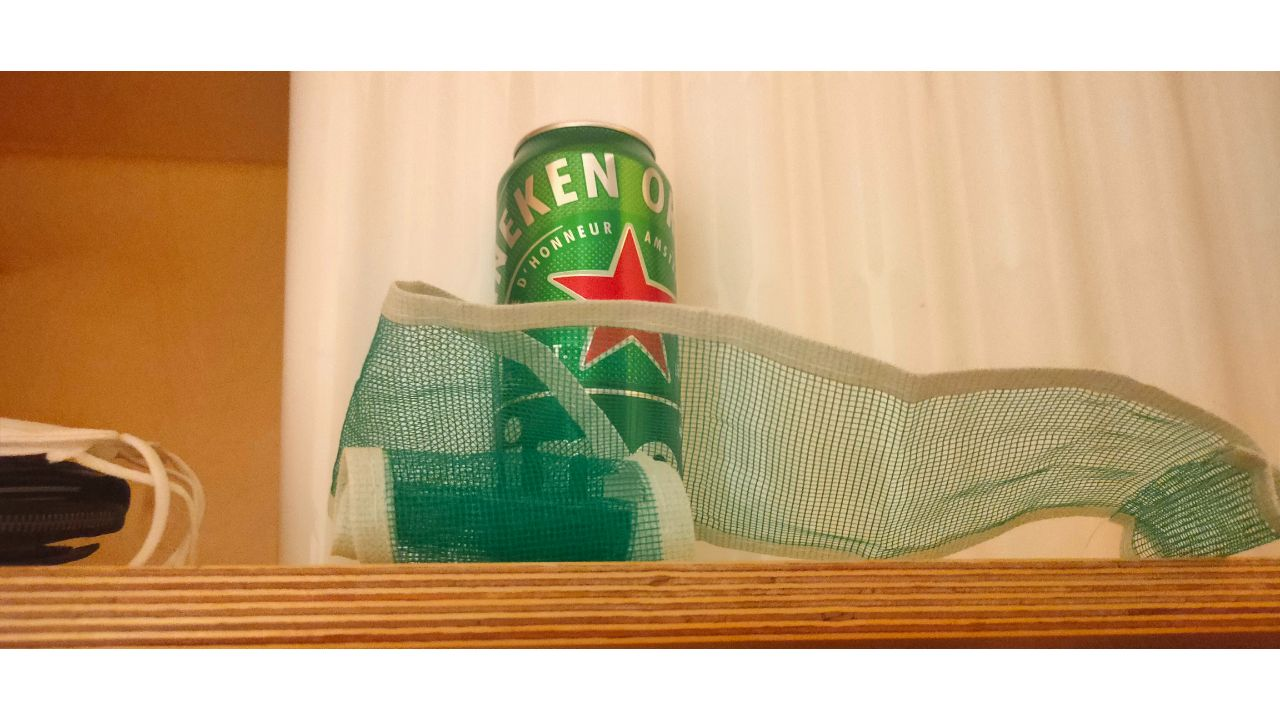Can: (498, 121, 684, 542)
